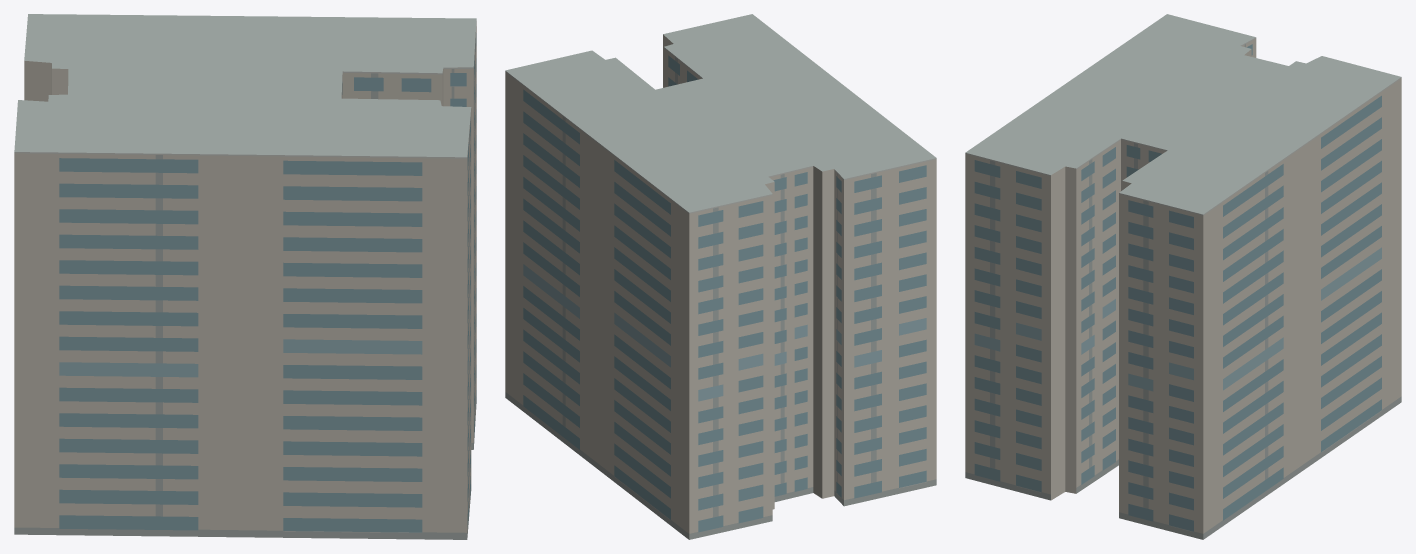
The model's file is survey-upis-32736358.glb.
The picture shows the model from 3 angles, left to right: view 1: azimuth 30°, elevation 25°; view 2: azimuth 150°, elevation 25°; view 3: azimuth 270°, elevation 25°; orthographic projection. The views are drawn at different scales.
Visible parts, largest first — view 1: survey-upis-32736358.tmp; view 2: survey-upis-32736358.tmp; view 3: survey-upis-32736358.tmp.
Boxes of the visible parts, x1,y1,x2,y2 form: survey-upis-32736358.tmp: (14,14,476,539); survey-upis-32736358.tmp: (505,14,936,539); survey-upis-32736358.tmp: (965,14,1401,539).
Size of the model in its own units: 88.73 by 67.1 by 81.57.
